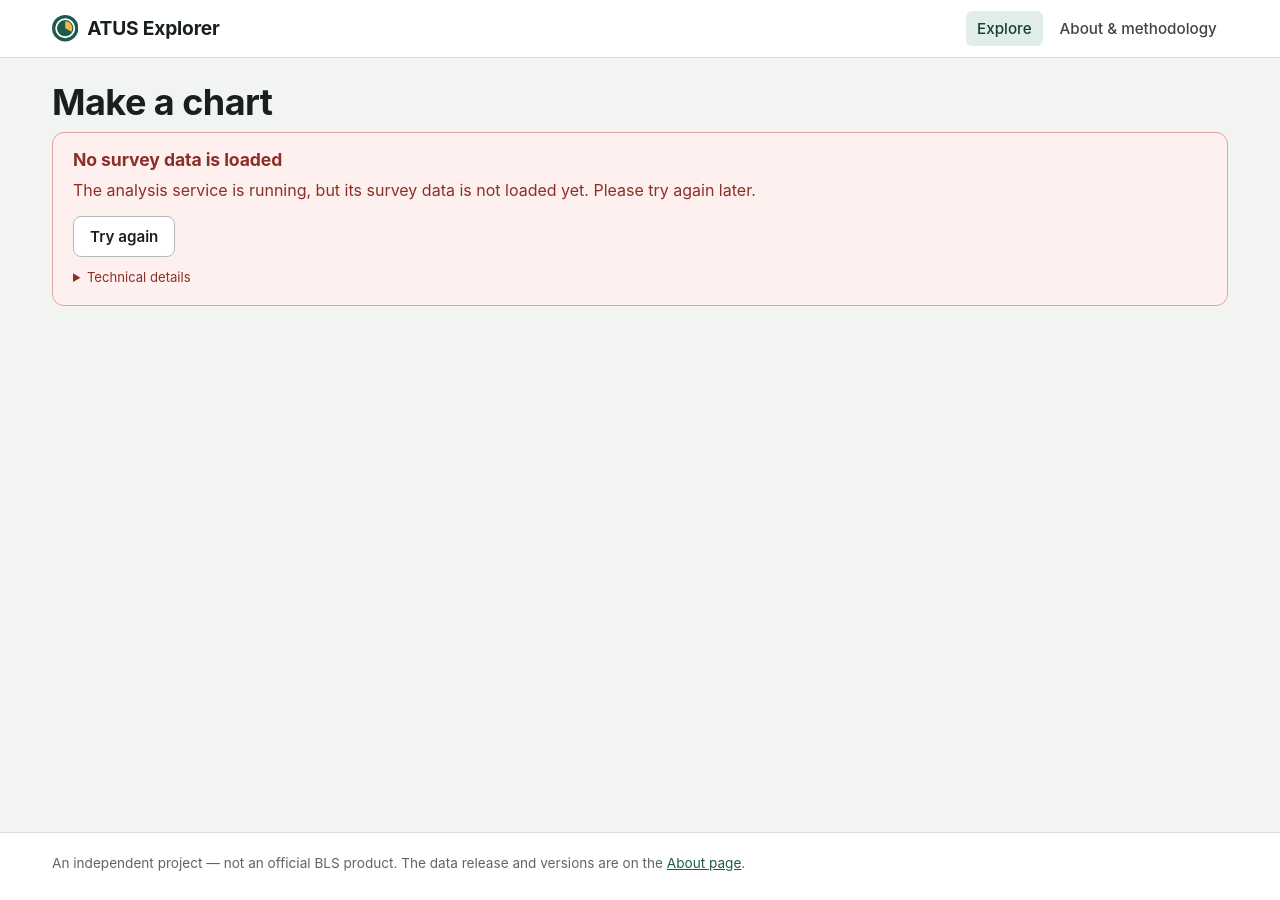
API version check (F25) › an API with no data loaded is "no survey data", with Try again (review round 2)
The image size is (1280, 900).
Check: the message shows "No survey data is loaded", box [73,149,282,170]
What coordinates should you click on to do the following:
click the button "Try again"
I would click on:
 (124, 237)
Its box is [73,216,175,258].
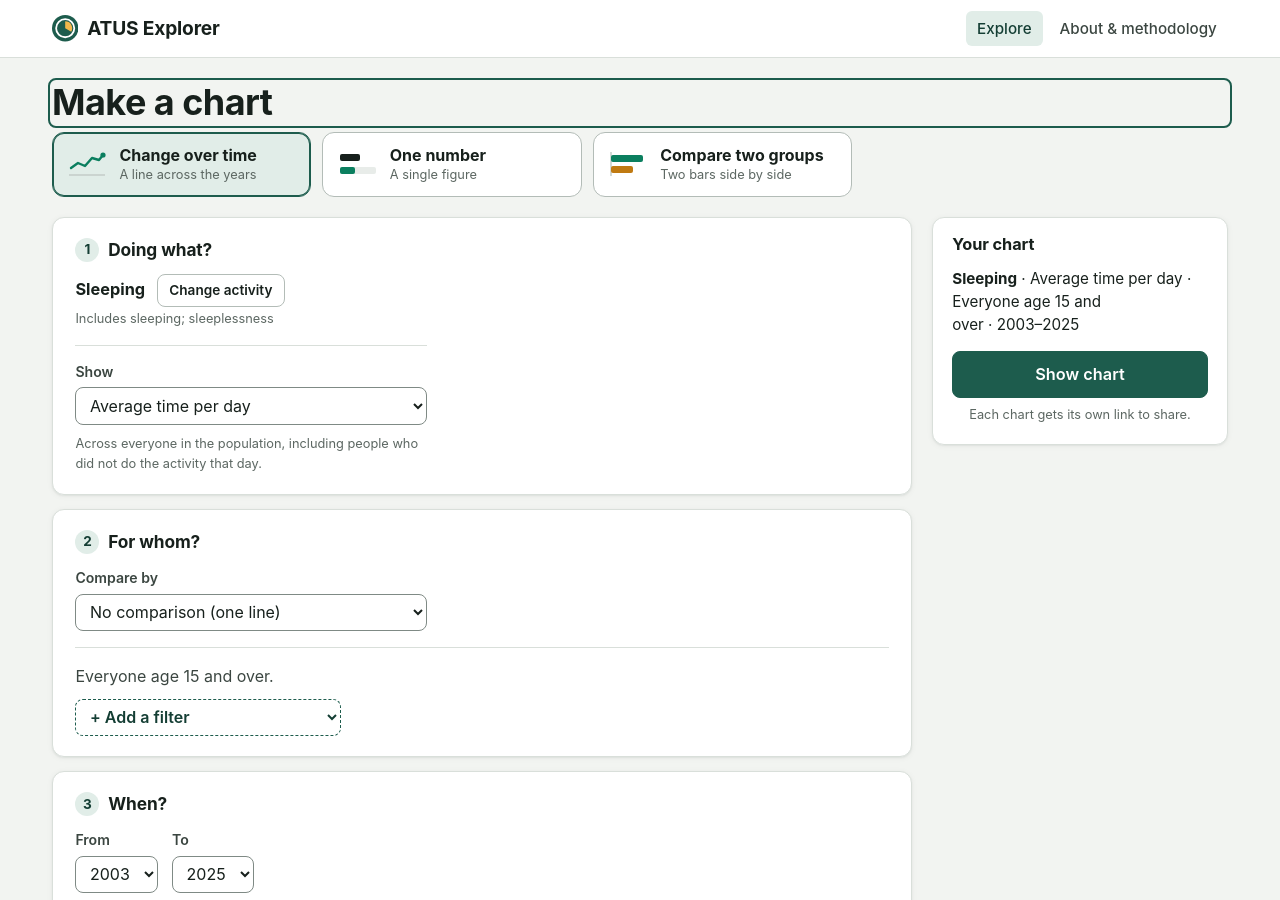
Check: the button "Show chart" is shown, box [952,351,1208,398]
